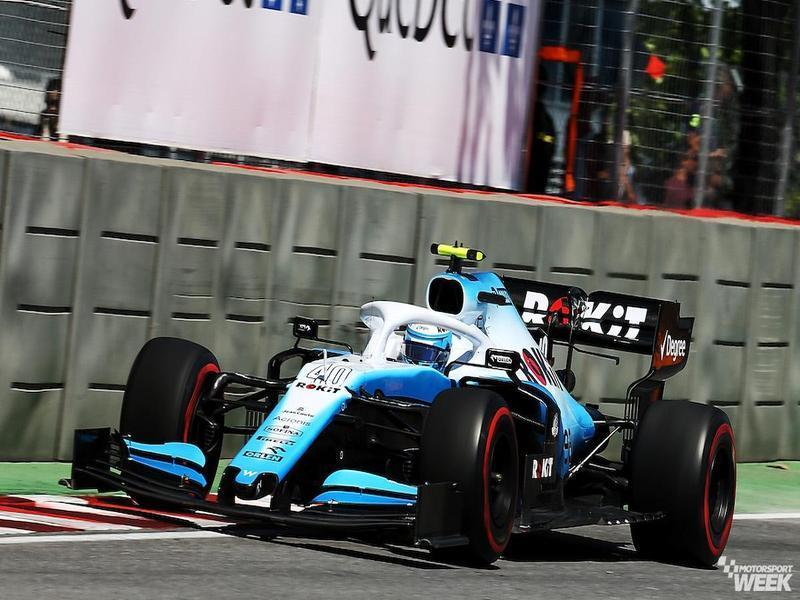f1: (78, 180, 756, 577)
